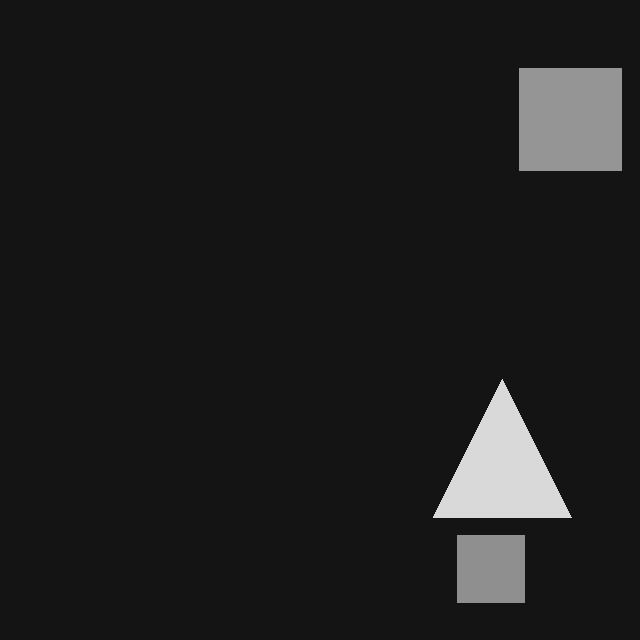square: (519, 68, 621, 170), (457, 535, 524, 602)
triangle: (433, 379, 571, 517)
